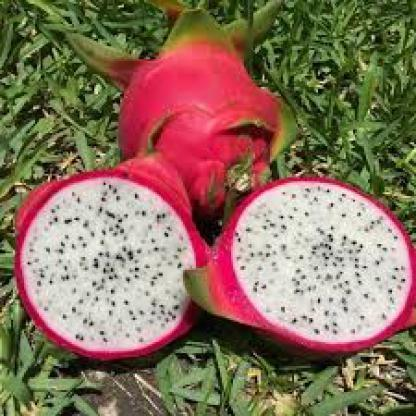dragon-fruit: (14, 169, 207, 361), (224, 176, 416, 354), (116, 41, 281, 222)
